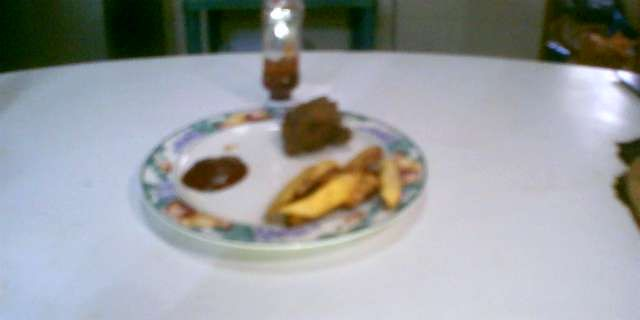chicken: (273, 93, 356, 161)
ketchup_bottle: (257, 1, 309, 105)
ketchup_portion: (182, 148, 252, 194)
potatoe_fries: (259, 144, 409, 231)
